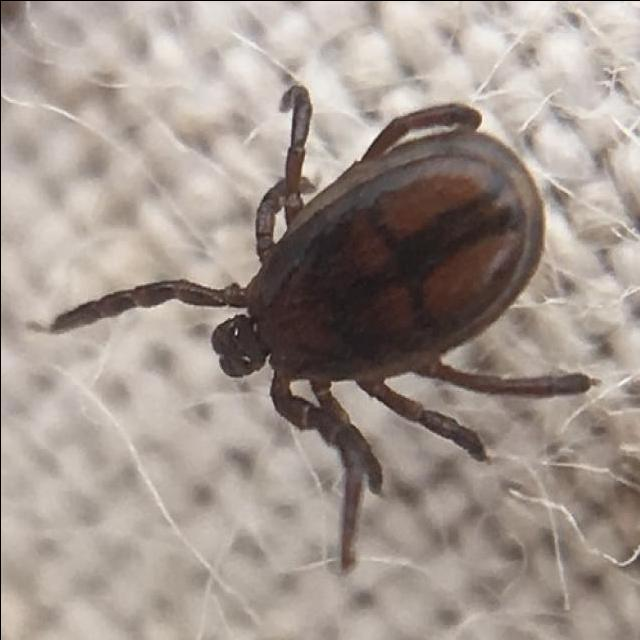Ixodes Ricinus-M: (50, 84, 594, 573)
